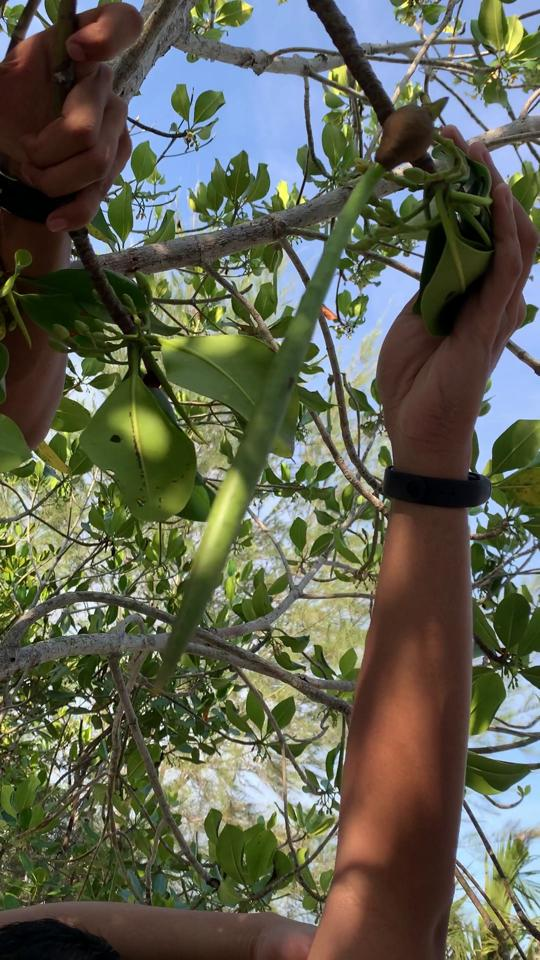mentah: (126, 85, 460, 710)
